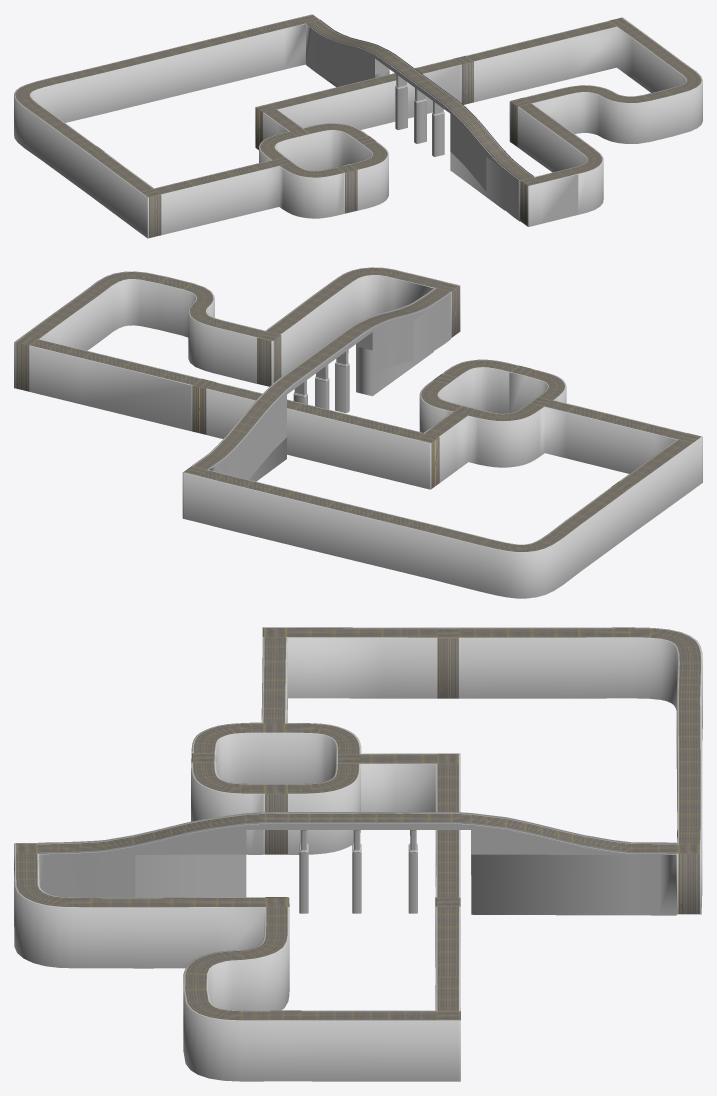
The model's file is Map2 - Copy.fbx.
The picture shows the model from 3 angles, top to bottom: view 1: azimuth 30°, elevation 25°; view 2: azimuth 150°, elevation 25°; view 3: azimuth 270°, elevation 25°; orthographic projection. The views are drawn at different scales.
Visible parts, largest first — view 1: Street, Bridge; view 2: Street, Bridge; view 3: Street, Bridge.
Part boxes in pixels (x1=…): Street: x1=14, y1=14, x2=702, y2=238; Bridge: x1=322, y1=56, x2=504, y2=210; Street: x1=14, y1=267, x2=702, y2=598; Bridge: x1=249, y1=306, x2=433, y2=481; Street: x1=14, y1=627, x2=702, y2=1081; Bridge: x1=135, y1=824, x2=632, y2=915.
Size of the model in its own units: 1294 by 143 by 956.
